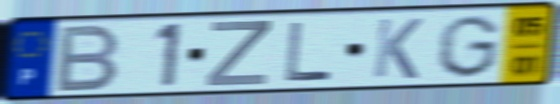1: (152, 20, 187, 91)
B: (51, 22, 124, 95)
G: (433, 13, 503, 80)
K: (369, 16, 426, 82)
L: (283, 20, 336, 83)
Z: (202, 19, 274, 89)
